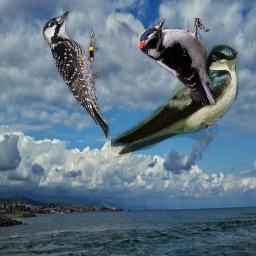Swallow: (111, 44, 239, 157)
Woodpecker: (42, 9, 110, 138), (137, 18, 217, 105)
